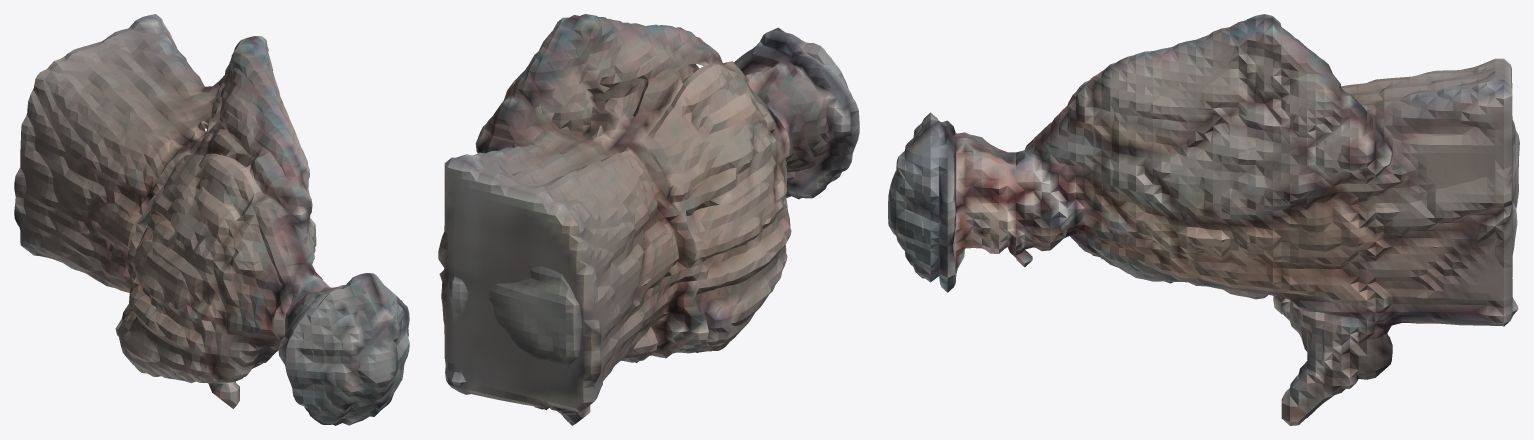
Rendered from industrial_scholar_m_0.glb.
The picture shows the model from 3 angles, left to right: view 1: azimuth 30°, elevation 25°; view 2: azimuth 150°, elevation 25°; view 3: azimuth 270°, elevation 25°; orthographic projection. The views are drawn at different scales.
Parts seen in each view (by area): view 1: world; view 2: world; view 3: world.
Boxes of the visible parts, bbox=[...] form: world: bbox=[14, 14, 409, 425]; world: bbox=[438, 14, 859, 425]; world: bbox=[888, 14, 1519, 425].
Bounding box in the file's own units: 0.3945 × 0.7254 × 1.01.
